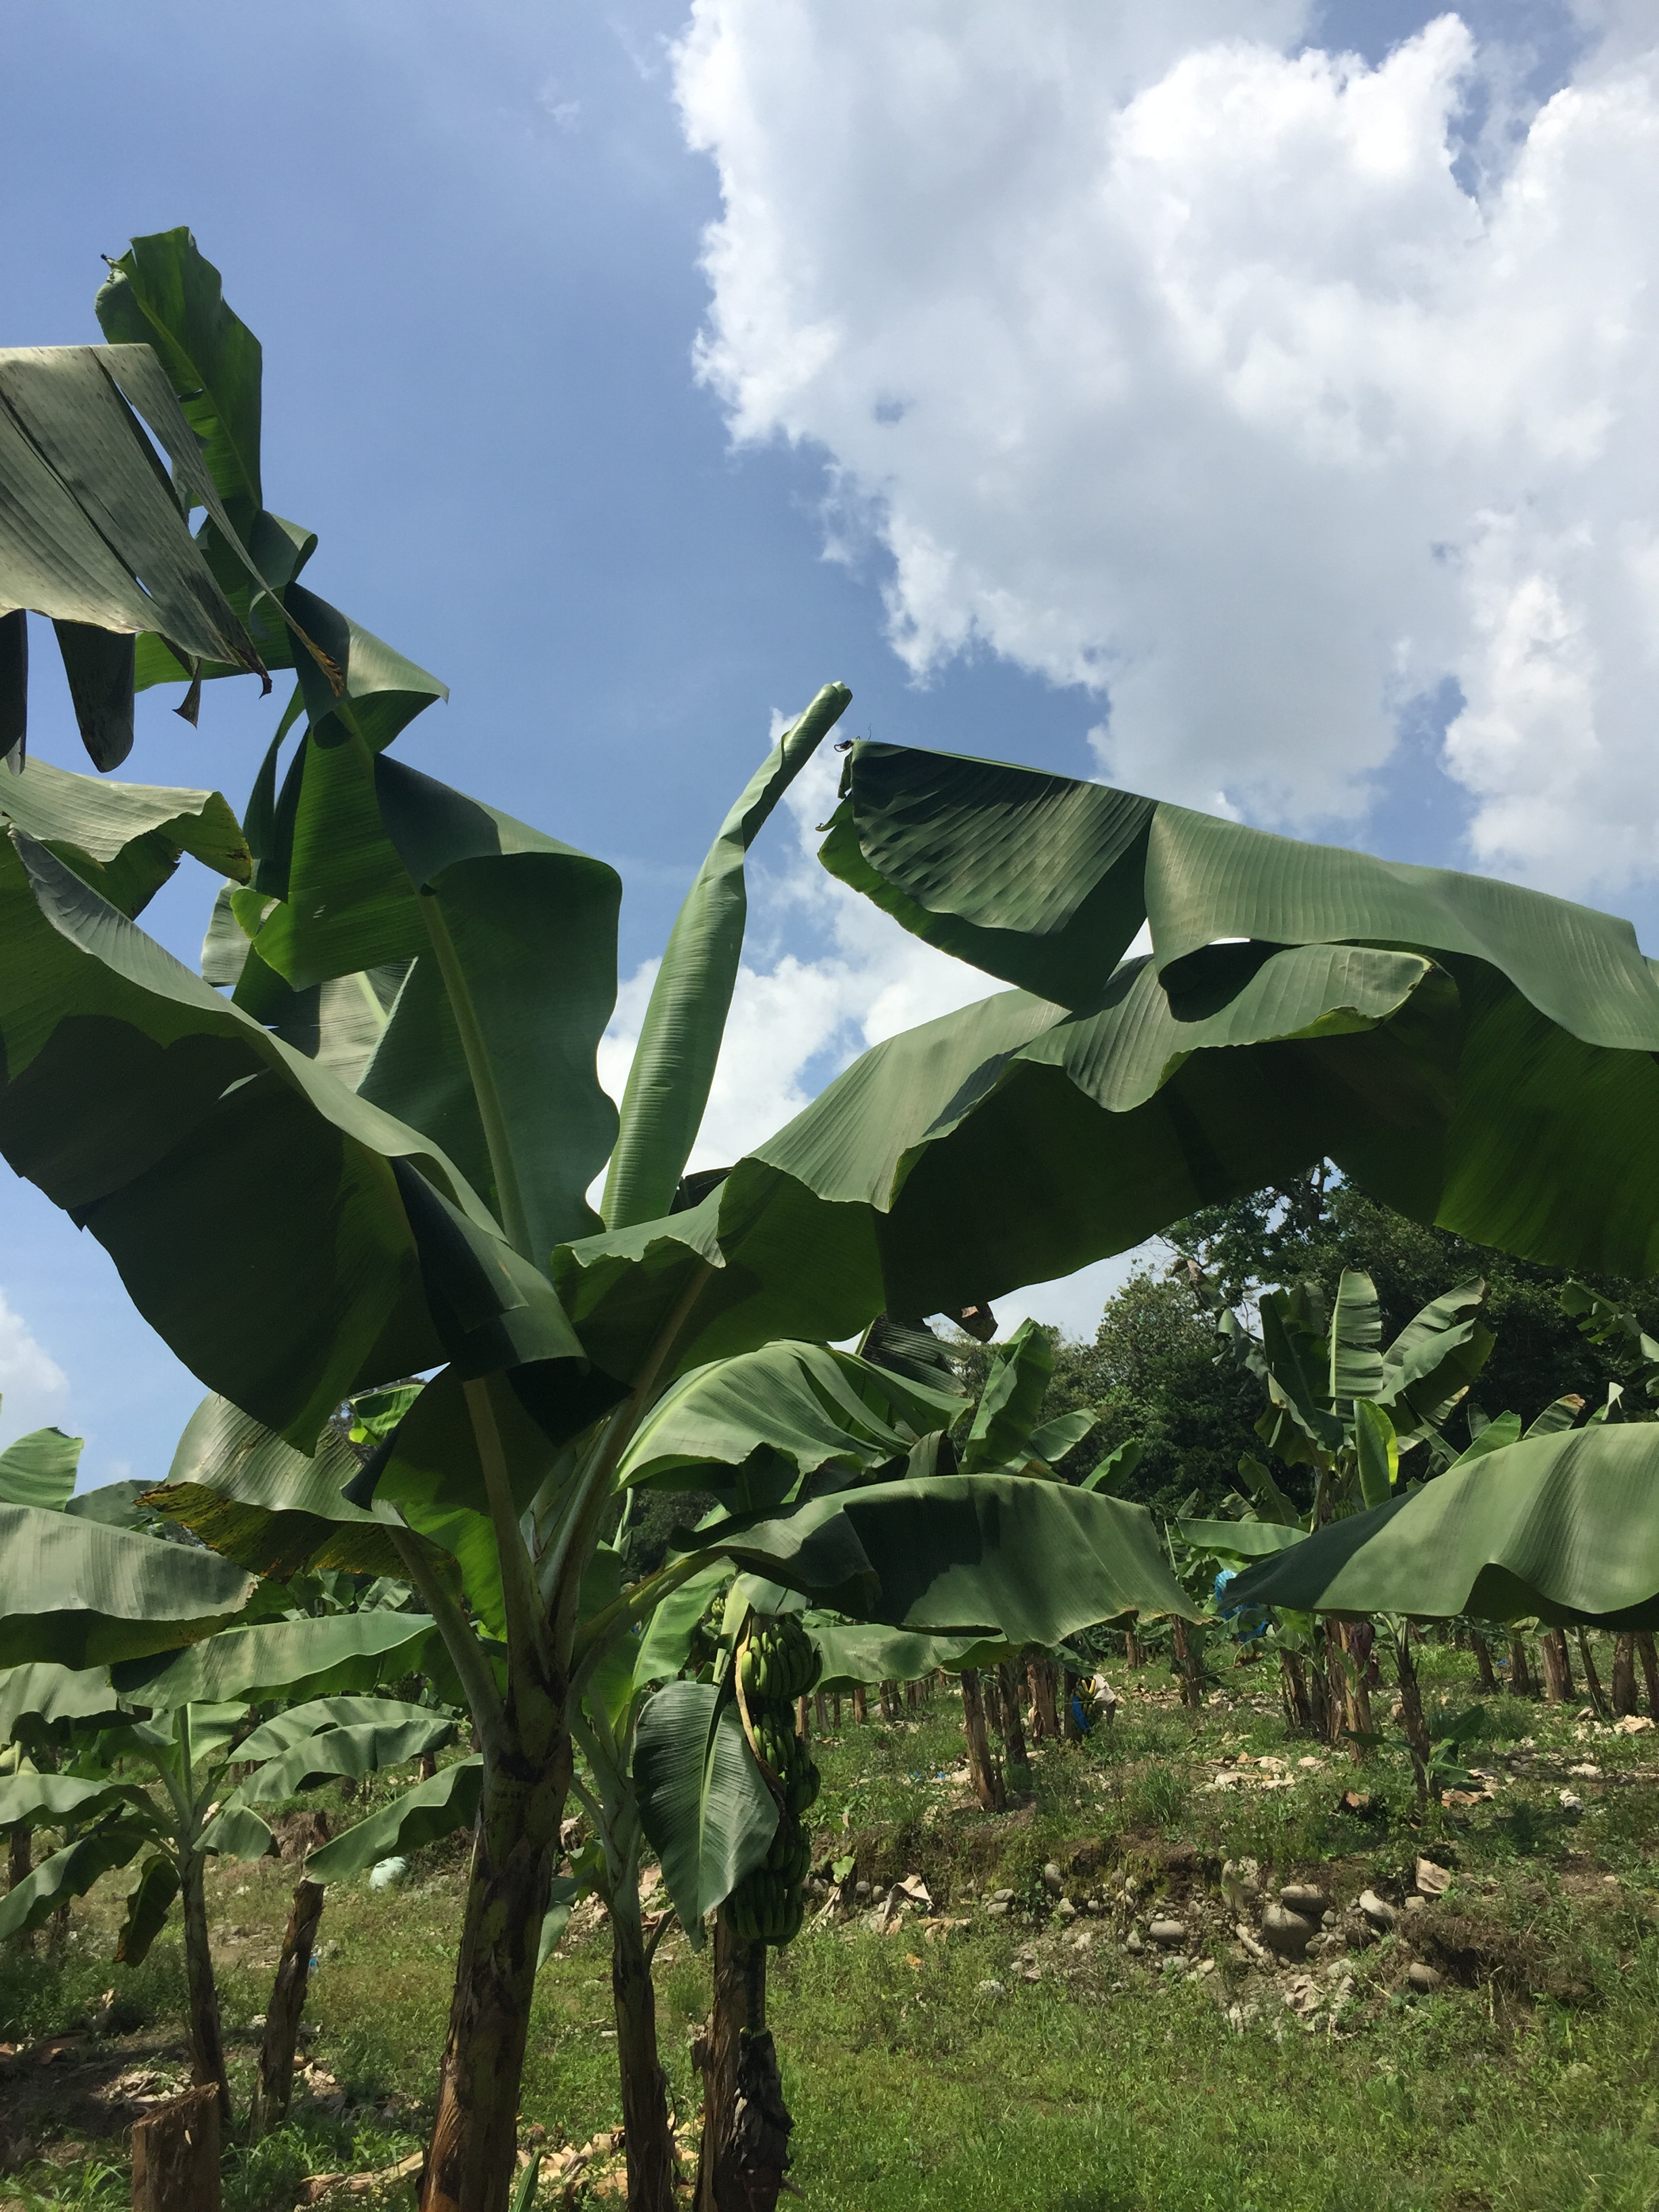candleleafs: (601, 678, 852, 1228)
